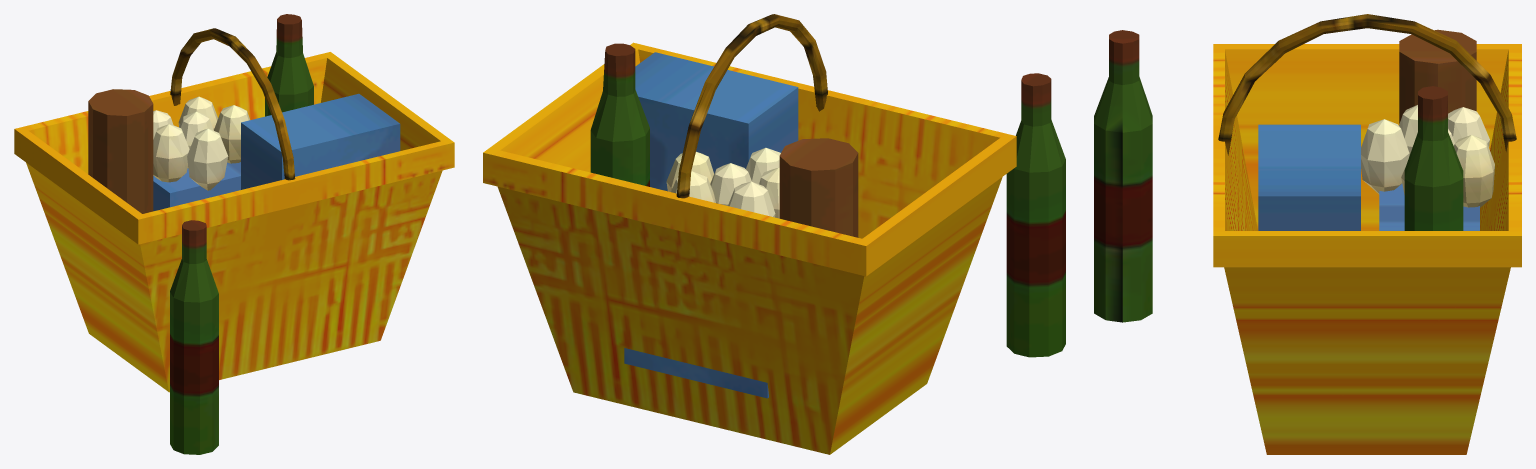
The model's file is Picnic.glb.
The picture shows the model from 3 angles, left to right: view 1: azimuth 30°, elevation 25°; view 2: azimuth 150°, elevation 25°; view 3: azimuth 270°, elevation 25°; orthographic projection. The views are drawn at different scales.
Visible parts, largest first — view 1: Picnic; view 2: Picnic; view 3: Picnic.
Boxes of the visible parts, x1,y1,x2,y2 form: Picnic: (14, 14, 454, 454); Picnic: (483, 14, 1065, 454); Picnic: (1094, 14, 1521, 454).
Bounding box in the file's own units: 218 × 199 × 204.
Materials: 1 (1 with a texture image).
